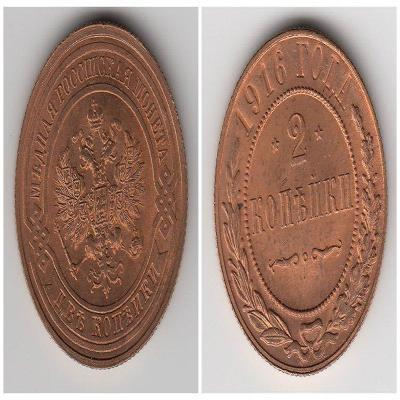numismatics: (15, 23, 188, 367), (215, 30, 387, 374)
